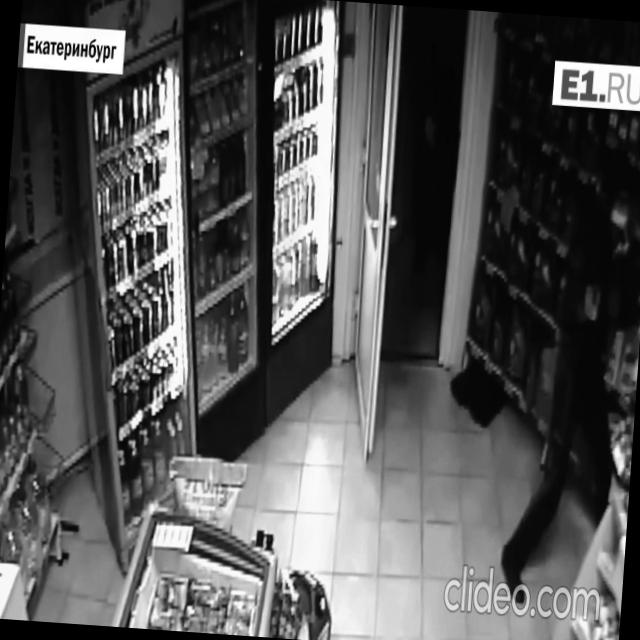gun: (587, 270, 602, 319)
person with a gun: (495, 133, 640, 614)
